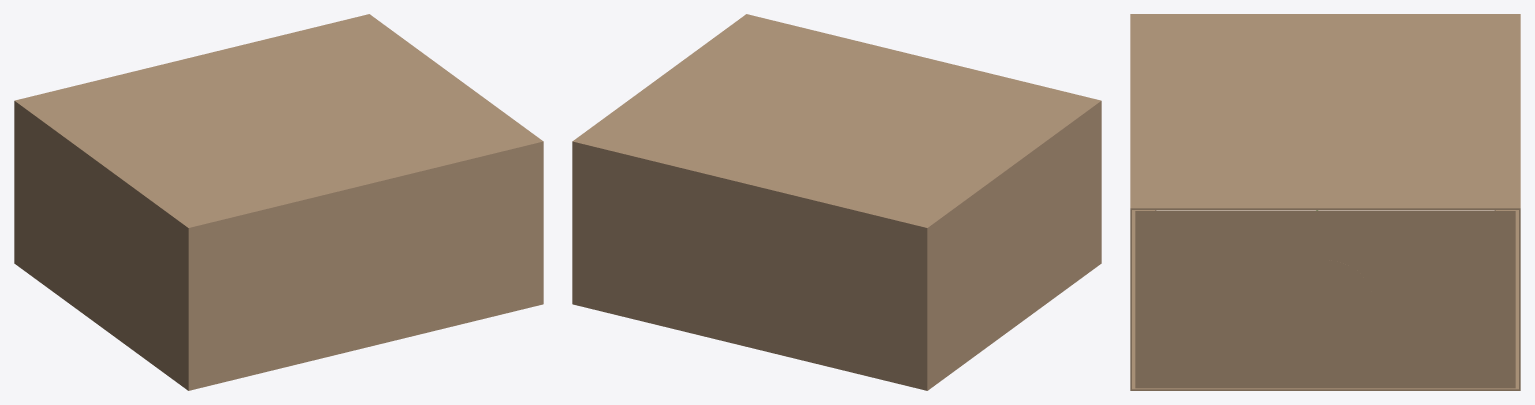
The model's file is preroll-shorts-closed.glb.
3 views of the same model, side by side, from view 1: azimuth 30°, elevation 25°; view 2: azimuth 150°, elevation 25°; view 3: azimuth 270°, elevation 25° (orthographic). The views are drawn at different scales.
Visible parts, largest first — view 1: shb_s1, shb_s2, shb_s4, shb_s0, shb_s3; view 2: shb_s1, shb_s3, shb_s4, shb_s0, shb_s2; view 3: shb_s1, shb_d4, shb_tab, shb_s0, shb_s3, shb_s2.
Part boxes in pixels (bbox=[...]): shb_s1: bbox=[14, 14, 543, 229]; shb_s2: bbox=[187, 141, 543, 390]; shb_s4: bbox=[14, 100, 189, 389]; shb_s0: bbox=[14, 262, 542, 390]; shb_s3: bbox=[14, 14, 369, 262]; shb_s1: bbox=[572, 14, 1101, 229]; shb_s3: bbox=[572, 141, 928, 390]; shb_s4: bbox=[926, 100, 1101, 389]; shb_s0: bbox=[573, 262, 1101, 390]; shb_s2: bbox=[746, 14, 1101, 263]; shb_s1: bbox=[1130, 14, 1520, 209]; shb_d4: bbox=[1135, 210, 1515, 388]; shb_tab: bbox=[1325, 259, 1373, 347]; shb_s0: bbox=[1130, 210, 1520, 390]; shb_s3: bbox=[1519, 14, 1520, 390]; shb_s2: bbox=[1130, 14, 1131, 390].
Size of the model in its own units: 0.1095 by 0.048 by 0.093.
